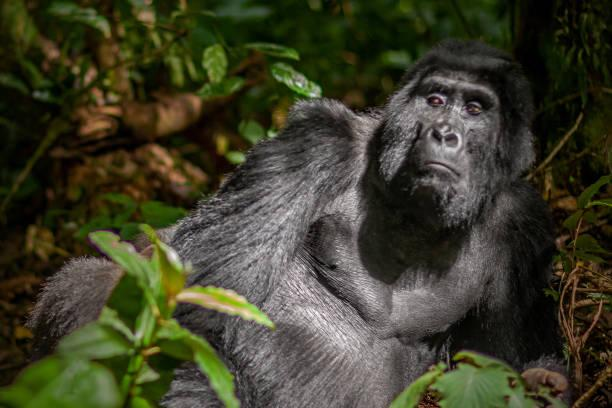goriile_montagne: (61, 19, 602, 408)
